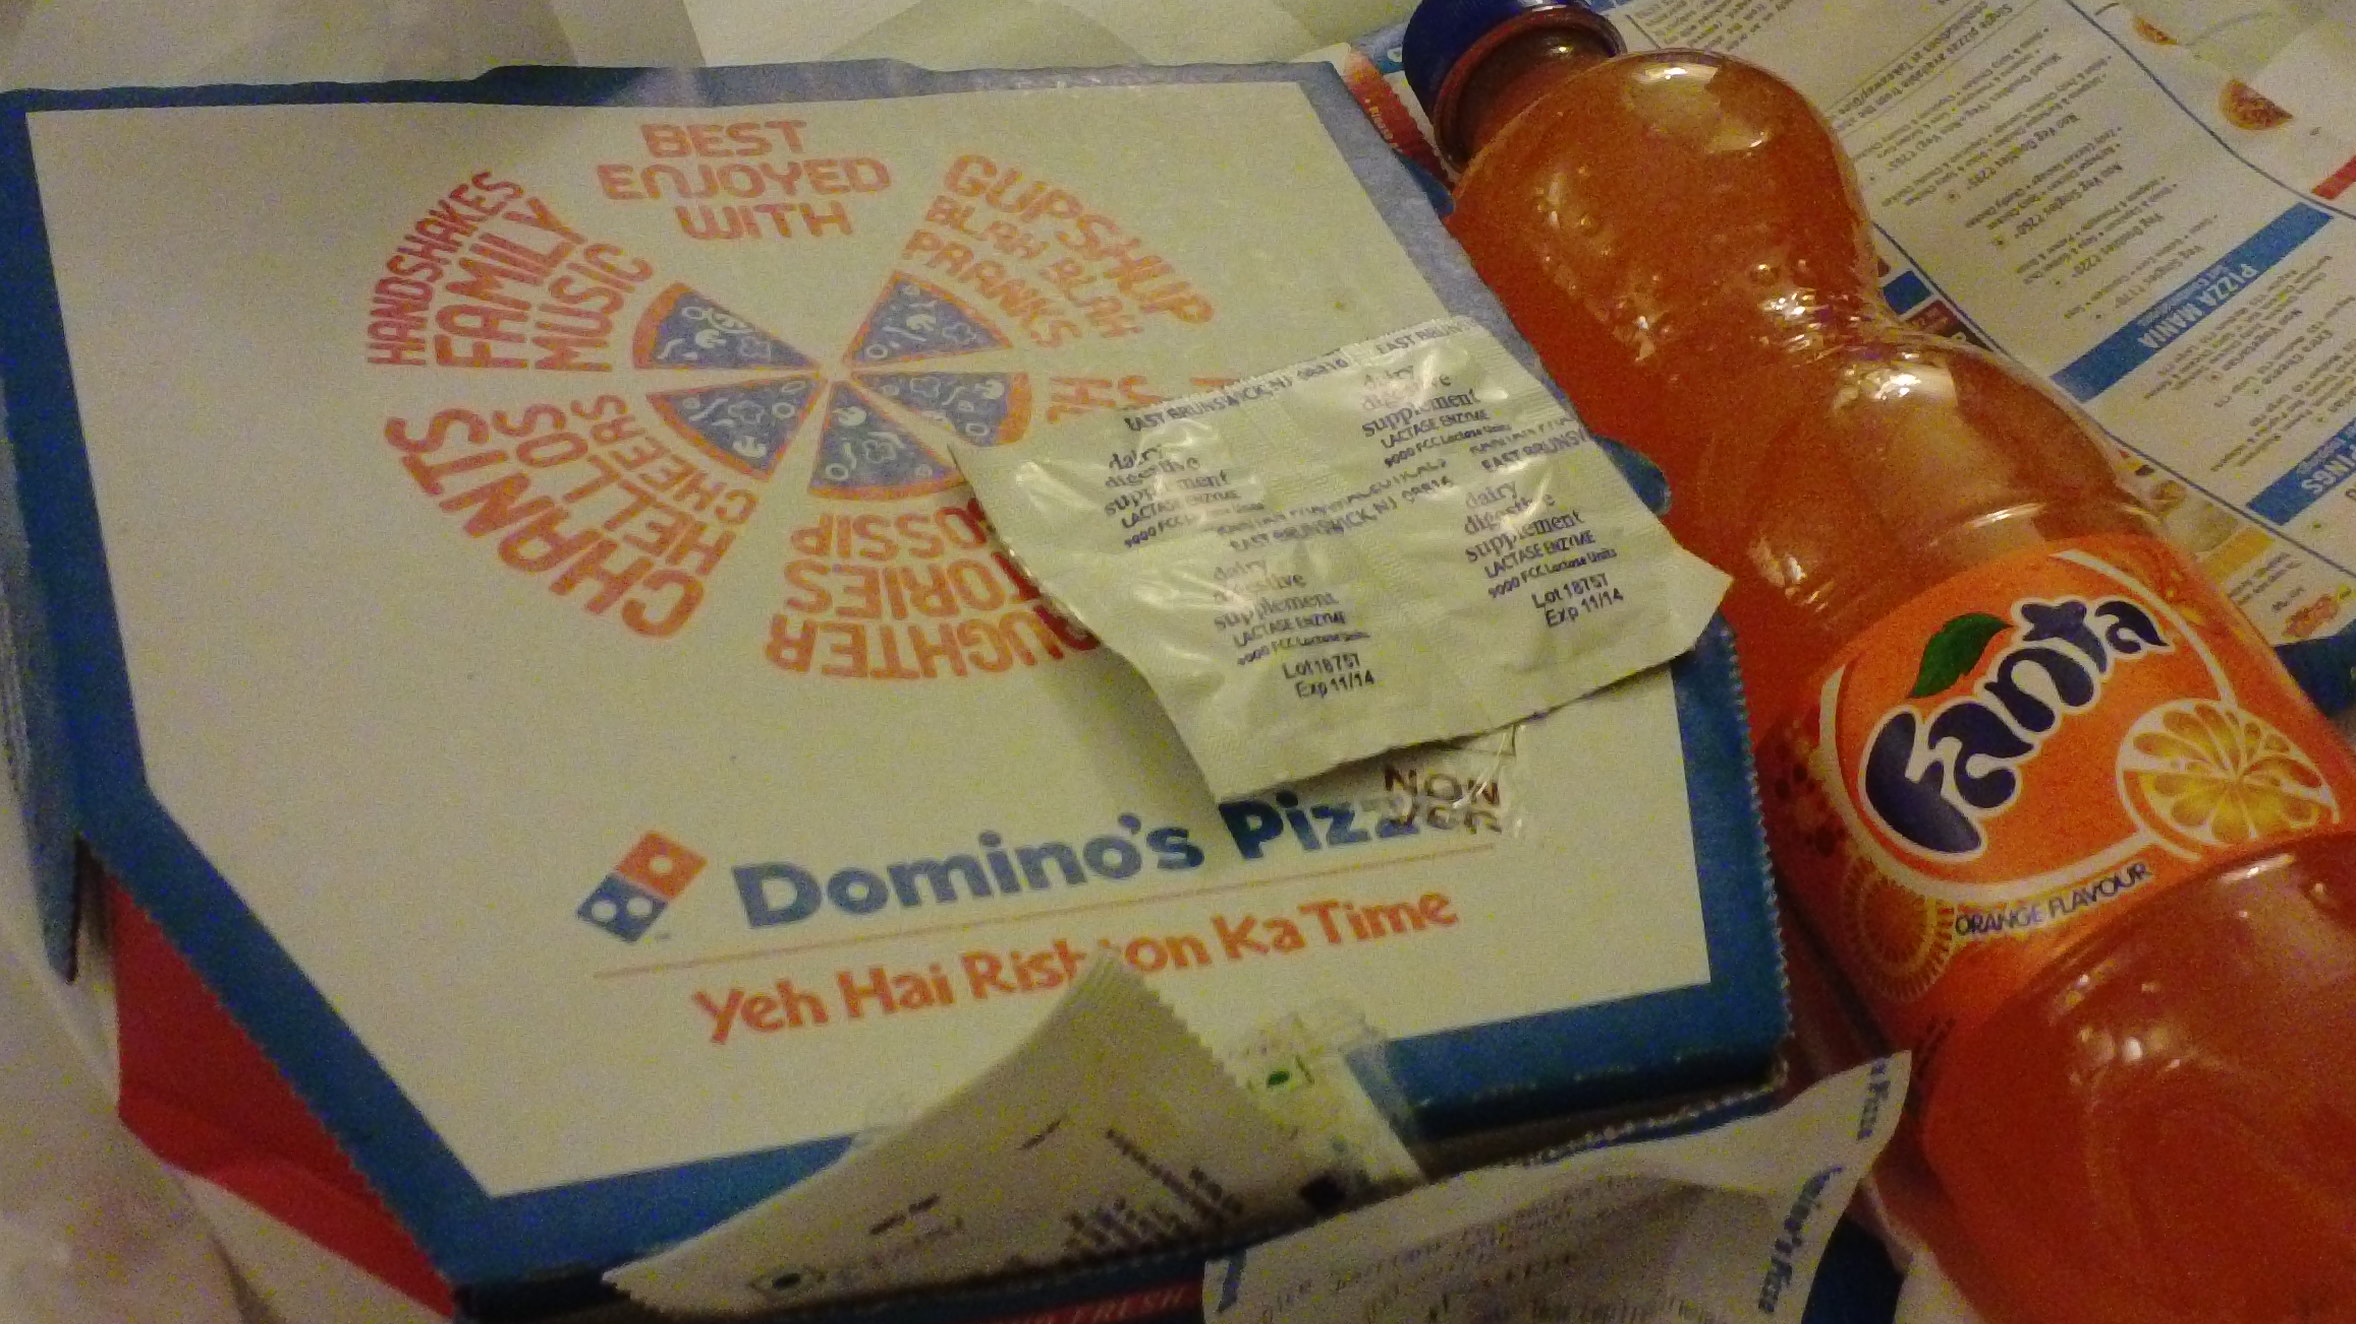fanta: (1667, 21, 2346, 1322)
